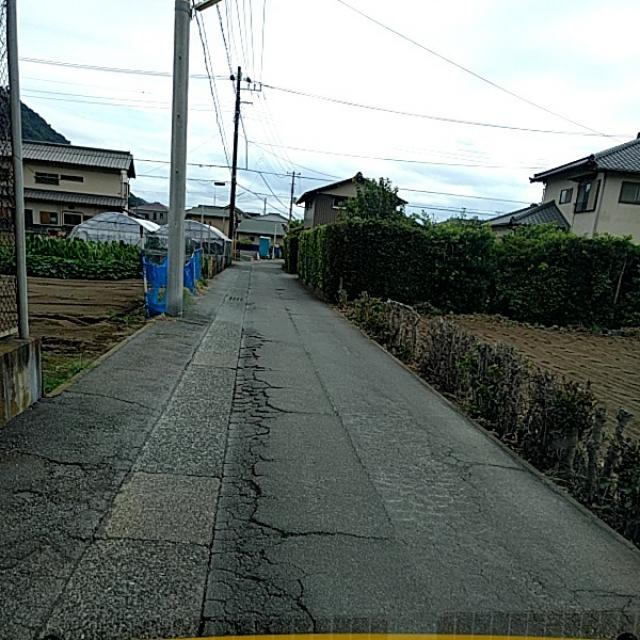pothole: (177, 295, 314, 638), (415, 401, 578, 589), (43, 426, 148, 607)
